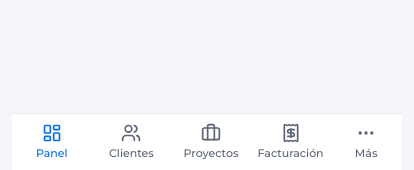
Test: BarraInferior › muestra todos los enlaces (directos + dentro de "Más") para un usuario OPERADOR
This screenshot has width=414, height=170.
Click the button "Más".
click(366, 142)  # box 330,114 -> 402,169
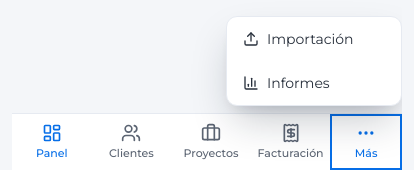
expect the link "Panel" is shown: met, box 36,123 -> 68,160
expect the menu item "Importación" is shown: met, box 243,30 -> 354,48
expect the menu item "Informes" is shown: met, box 243,74 -> 330,92
